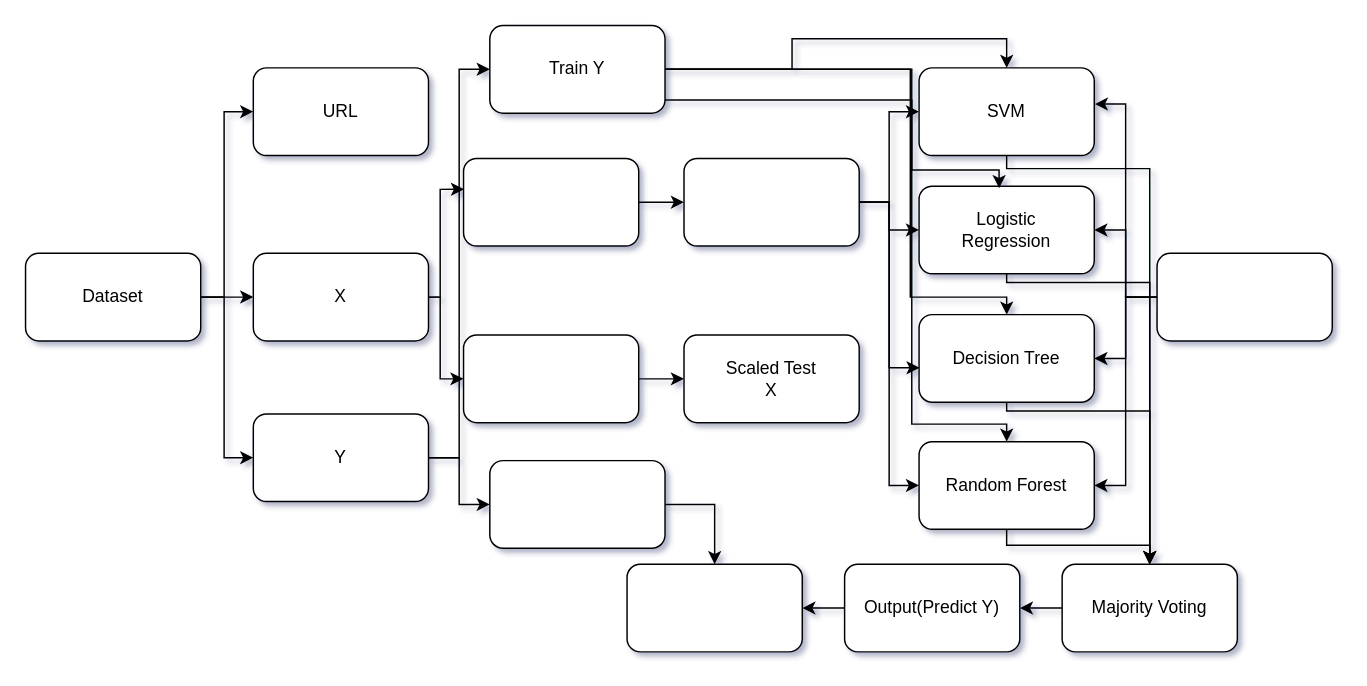
Some shapes in this 1367 by 686 pixel diagram are drawn without their labels. Here are the shapes that lost their labels. From the top down, the box of each, then its label:
(462, 157, 639, 246): Train X
(683, 157, 859, 246): Scaled Train X
(1156, 252, 1332, 341): Cross Validation + Hyperparameter Tuning
(462, 334, 639, 423): Test X
(488, 459, 665, 548): Test Y
(626, 563, 802, 652): Performance Metrics
